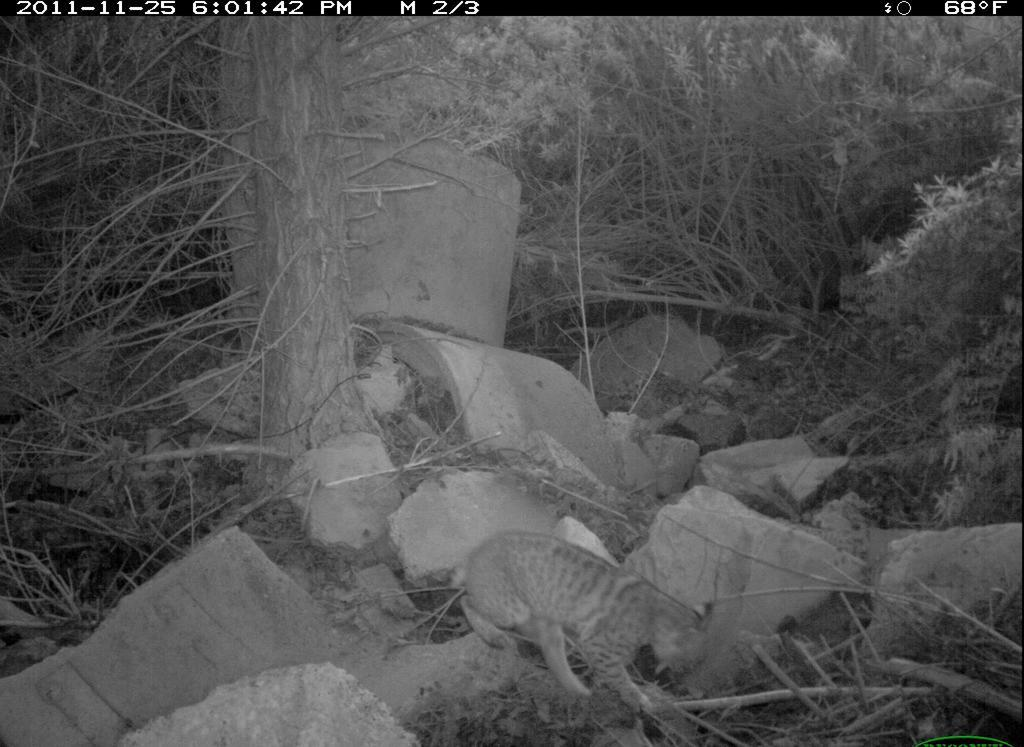bobcat: (437, 520, 729, 711)
